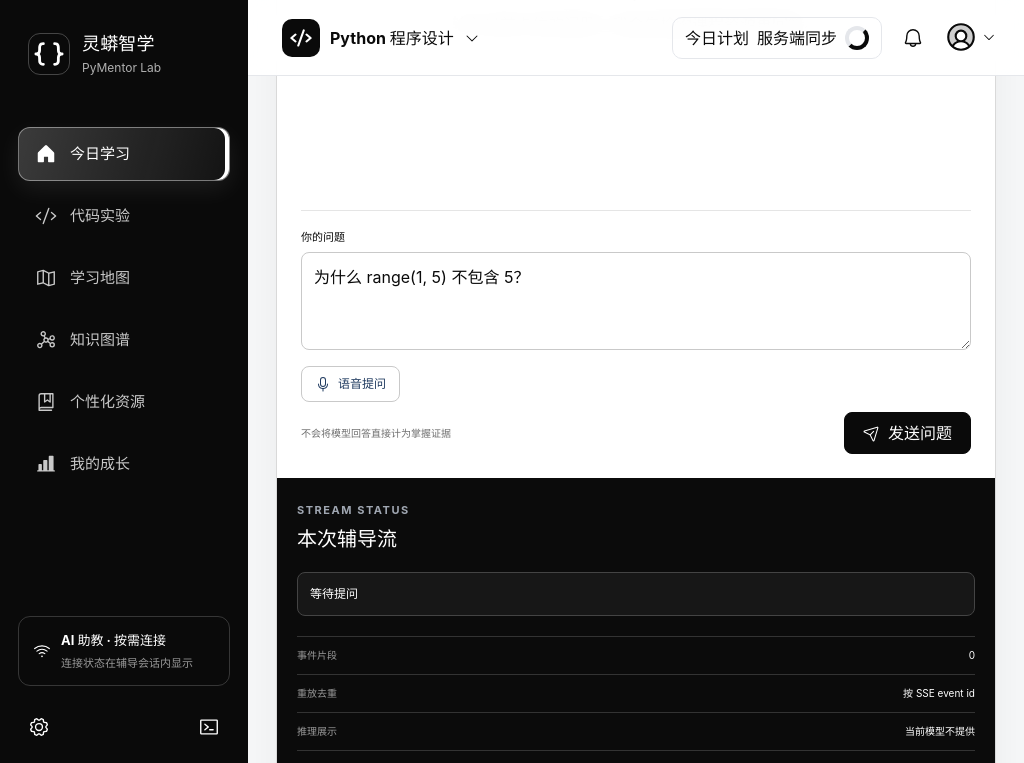
Test: FE-022 voice question › lets the student cancel a recording without uploading anything
The image size is (1024, 763).
(page scrolled)
What coordinates should you click on to do the following:
click the button "语音提问"
I would click on:
 (350, 384)
Its box is left=301, top=366, right=400, bottom=402.
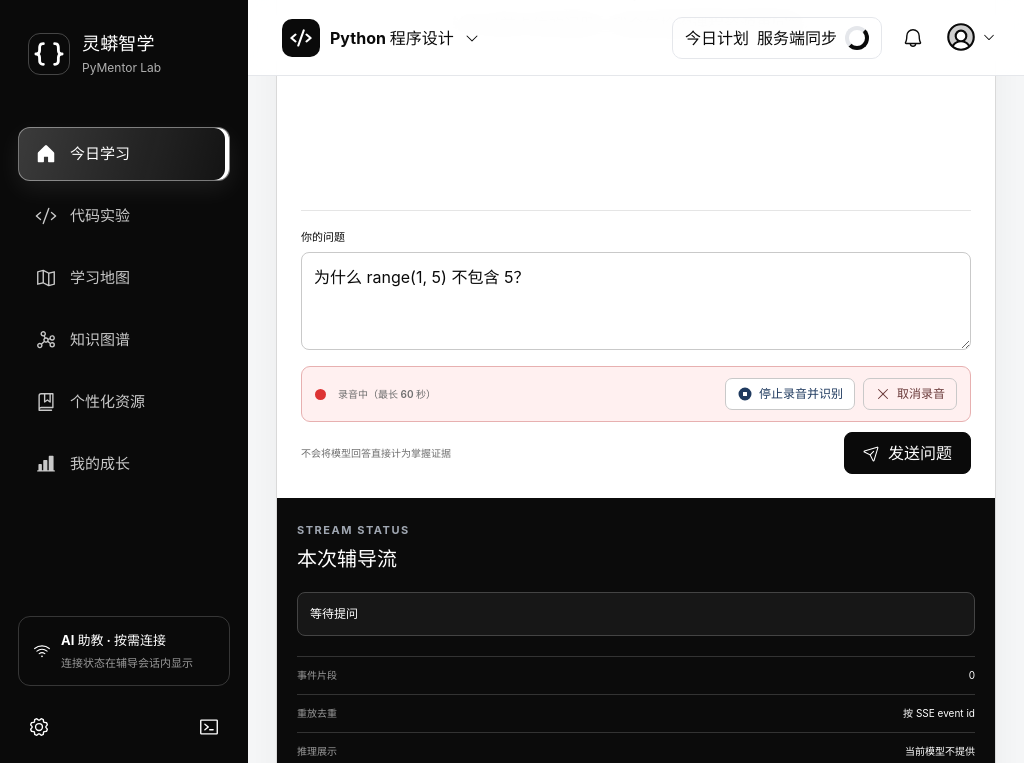
Result: the message named "语音录音" is shown at left=301, top=366, right=971, bottom=422
What coordinates should you click on to do the following:
click the button "取消录音"
I would click on:
 (910, 394)
Its box is left=863, top=378, right=957, bottom=410.
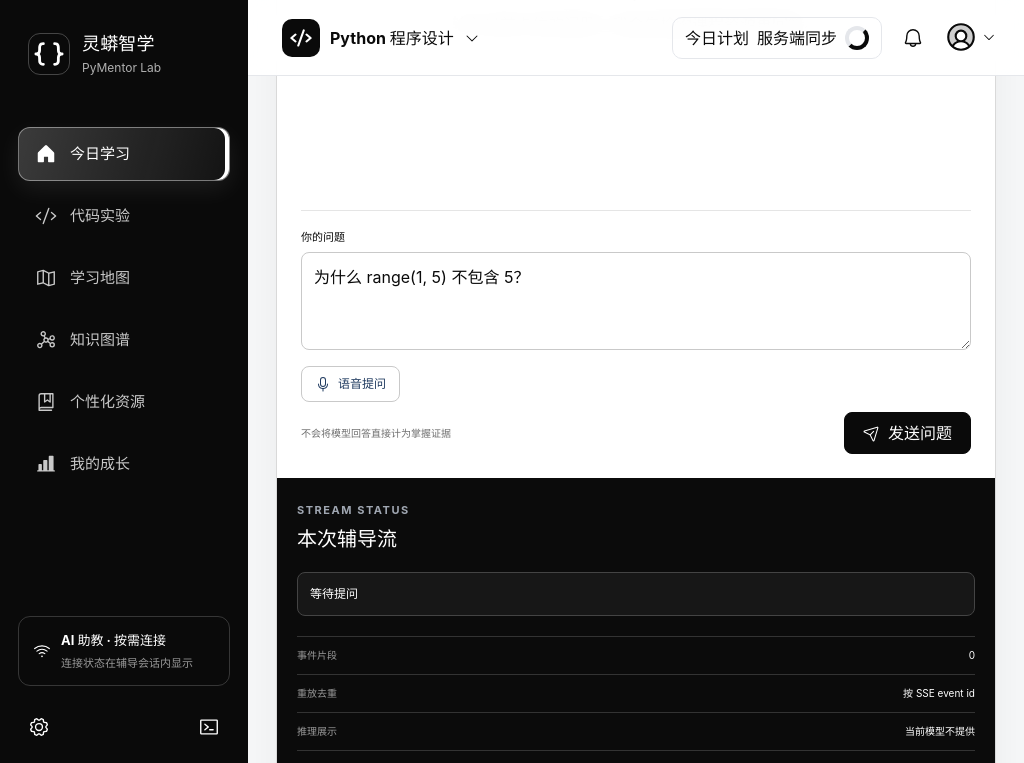
Expected: the text box labelled "你的问题" holds "为什么 range(1, 5) 不包含 5？", left=301, top=252, right=971, bottom=350
Result: the message "语音录音" is gone
